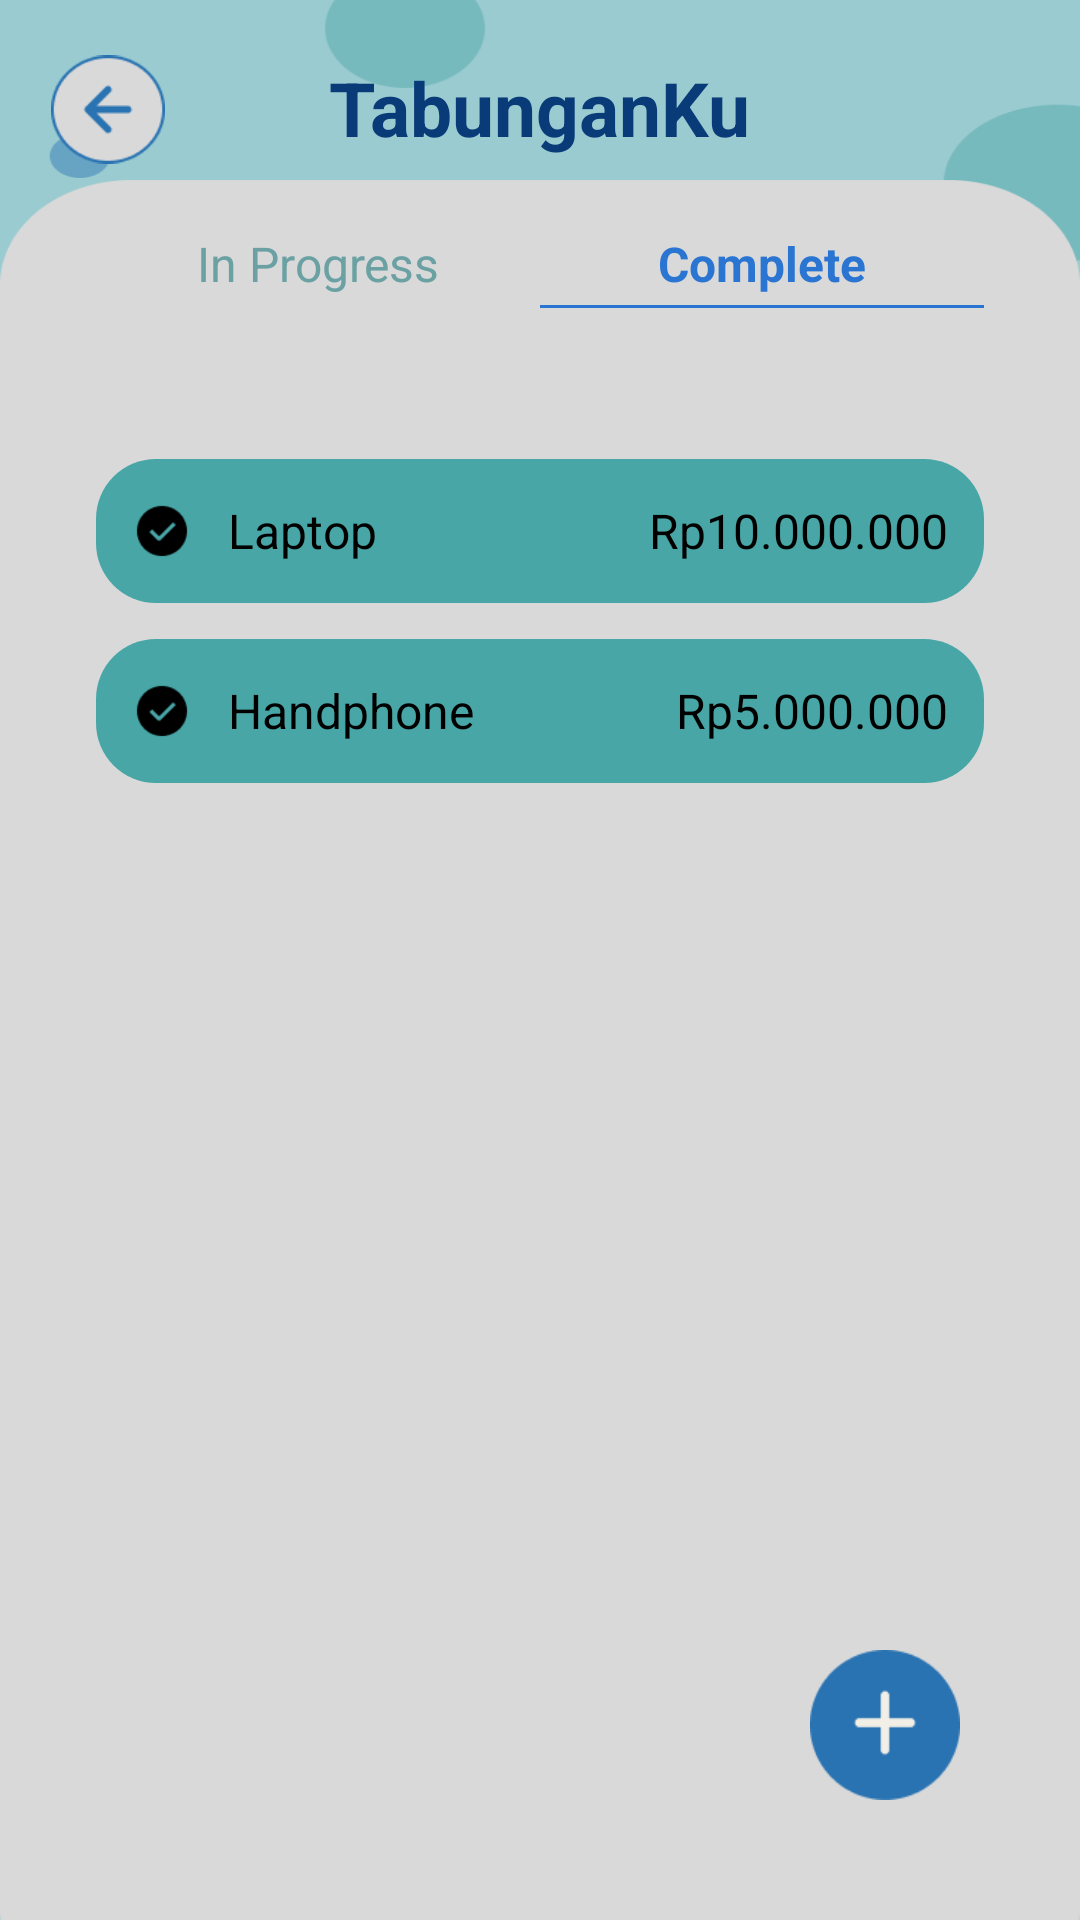

Named icons in this screenshot (1080px x 1920px) and their centers, [x,y]:
add: [885,1725]
centang: [162,531], [162,711]
tombol back: [108,111]
